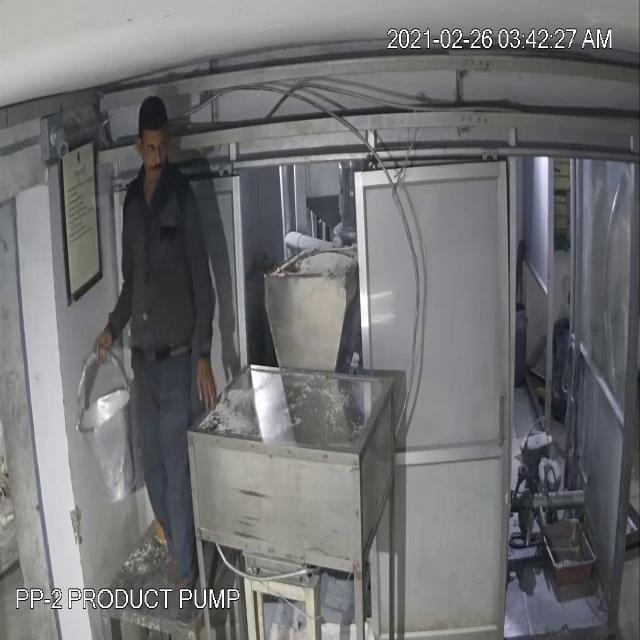no-helmet: (131, 102, 175, 182)
